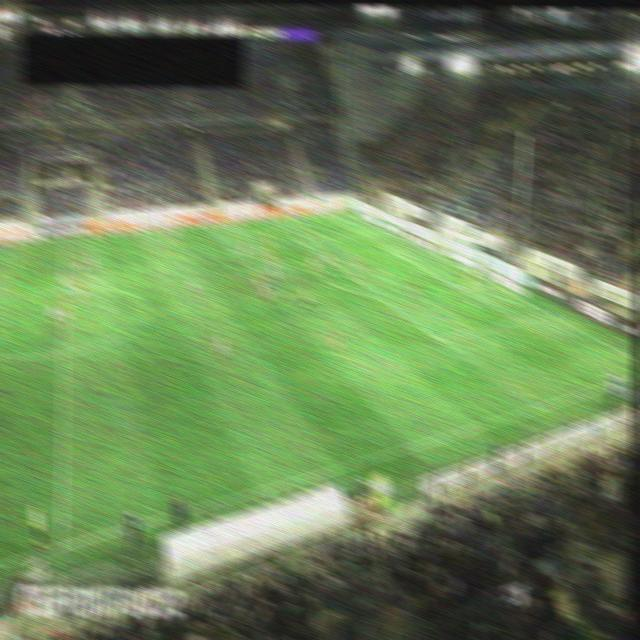bigarea_bottom_inner: (428, 333, 446, 346)
bigarea_bottom_outter: (543, 308, 559, 320)
bigarea_top_inner: (288, 234, 304, 246)
bigarea_top_outter: (374, 224, 390, 236)
bottom_arc_area_intersection: (368, 288, 384, 301)
corner: (338, 209, 354, 221)
halfcircle_bottom: (54, 346, 71, 360)
halfcircle_top: (55, 283, 72, 296)
midline_bottom_intersection: (52, 537, 71, 555)
midline_top_intersection: (57, 233, 73, 246)
smallarea_bottom_inner: (450, 282, 466, 295)
smallarea_bottom_outter: (481, 276, 499, 289)
smallarea_top_inner: (380, 243, 397, 256)
smallarea_top_outter: (408, 240, 424, 253)
top_arc_area_intersection: (320, 254, 336, 267)
